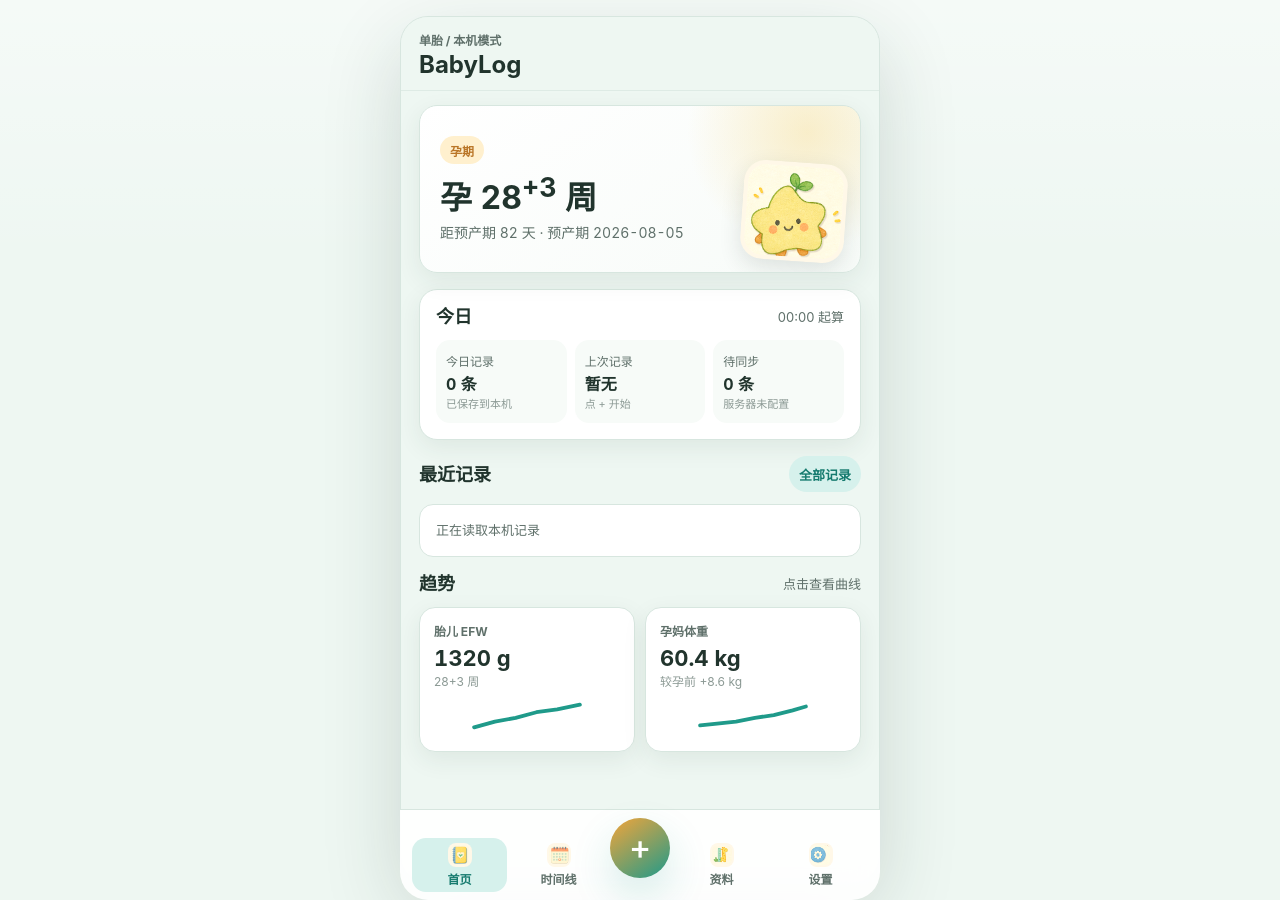
Test: BabyLog UI shell › marks pending changes failed when sync runs without a backend
What coordinates should you click on to do the following:
click the button named "快捷记录"
I would click on:
 (640, 848)
Its box is [610,818,670,878].
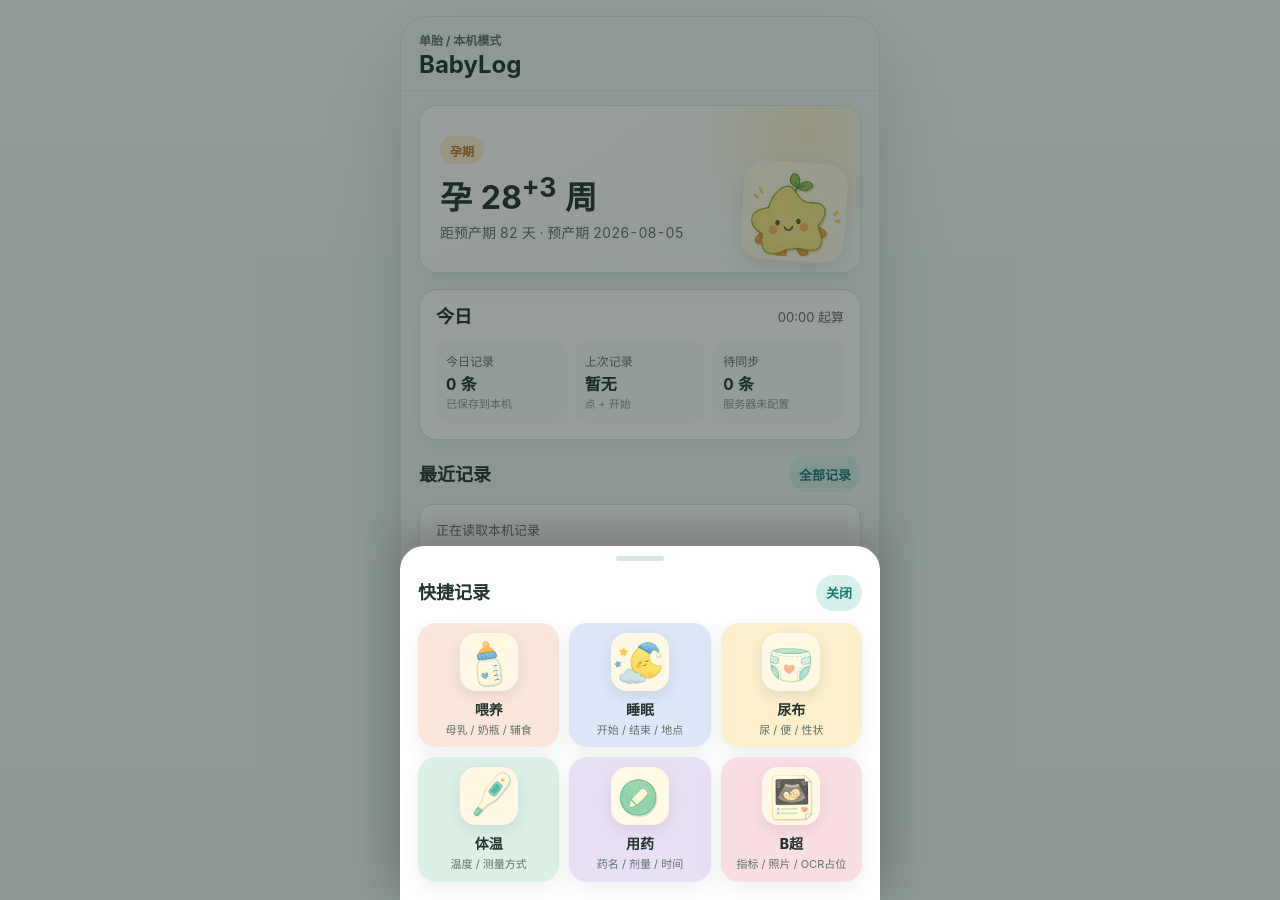
What coordinates should you click on to do the following:
click the button "喂养 母乳 / 奶瓶 / 辅食"
I would click on:
 (489, 685)
Its box is [418,622,559,747].
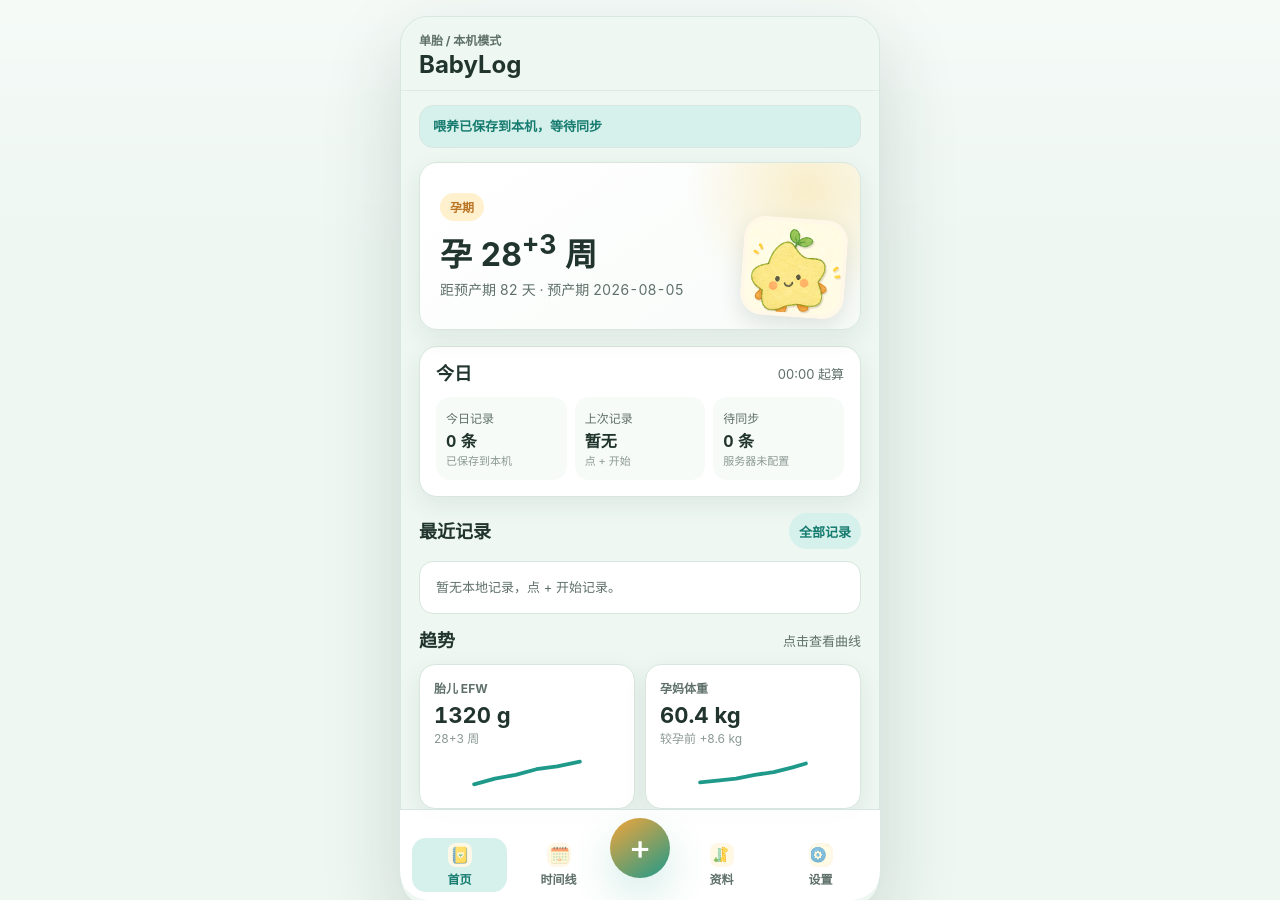
Expected: the text "喂养已保存到本机，等待同步" is shown, [419,105,861,148]
What coordinates should you click on to do the following:
click the button "设置"
I would click on:
 (820, 865)
Its box is [773,838,868,892].
(page scrolled)
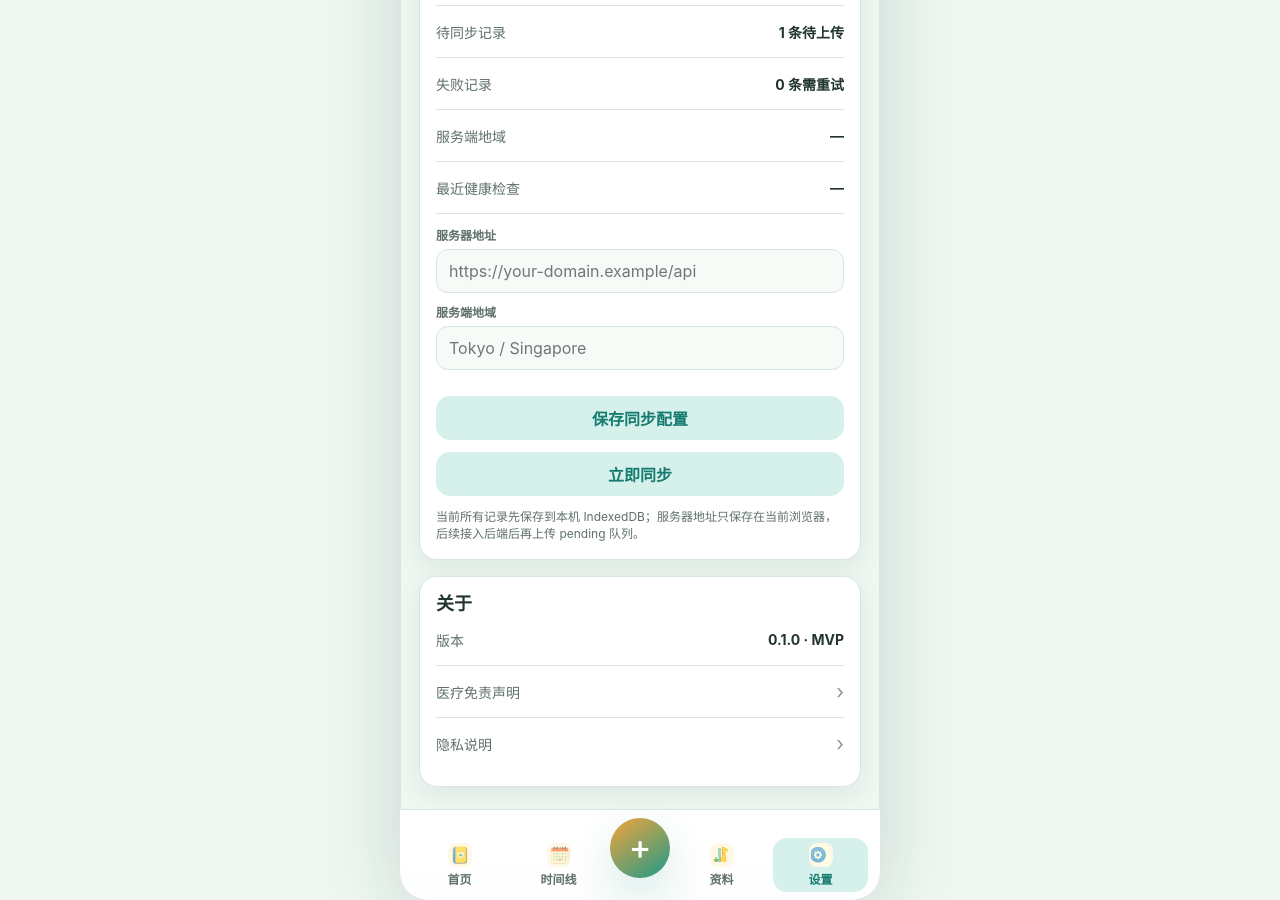
Expected: the text "1 条待上传" is shown, [779,22,844,42]
What coordinates should you click on to do the following:
click the button "立即同步"
I would click on:
 (640, 474)
Its box is [436,452,844,496].
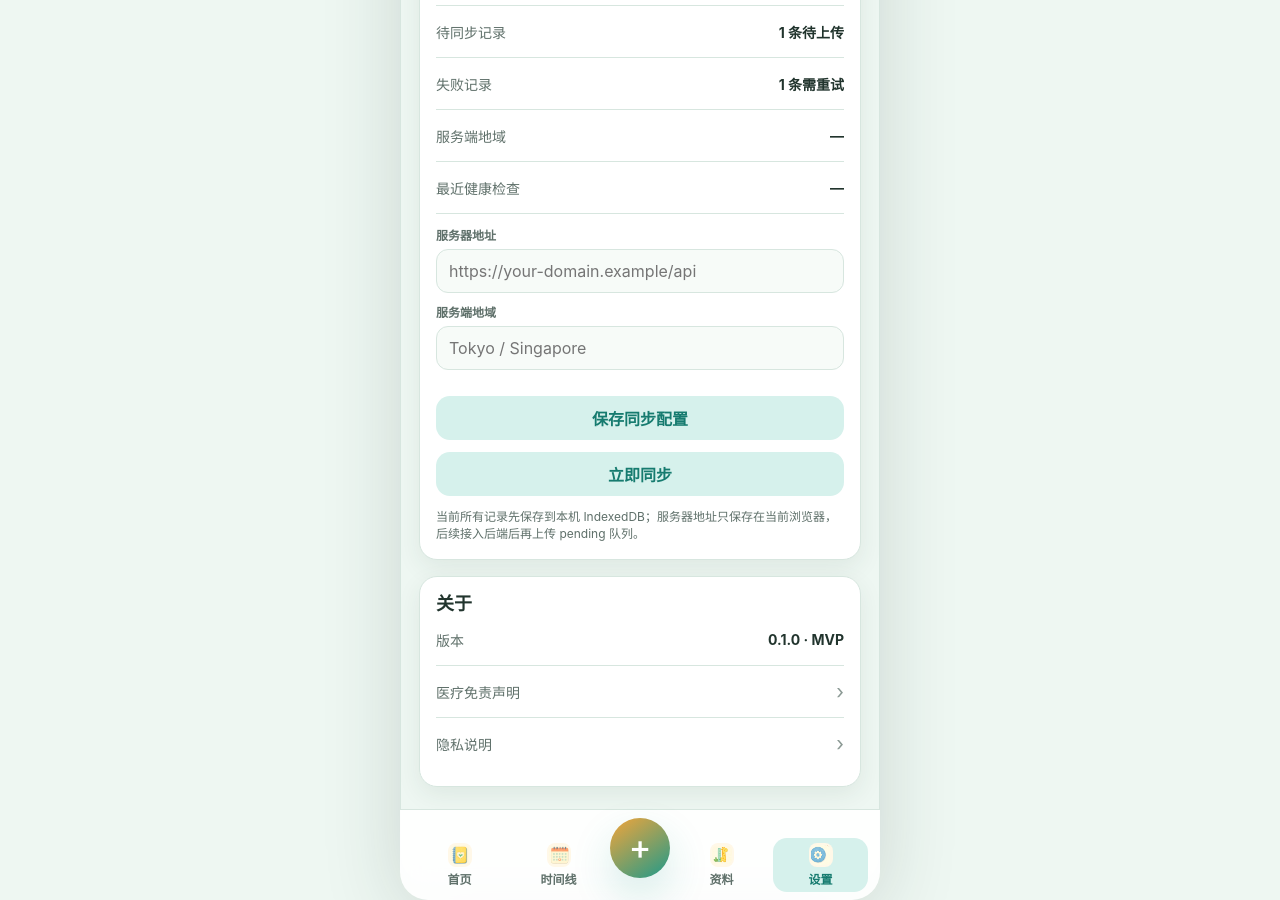
Expected: the text "1 条待上传" is shown, [779,22,844,42]
Expected: the text "1 条需重试" is shown, [779,74,844,94]
